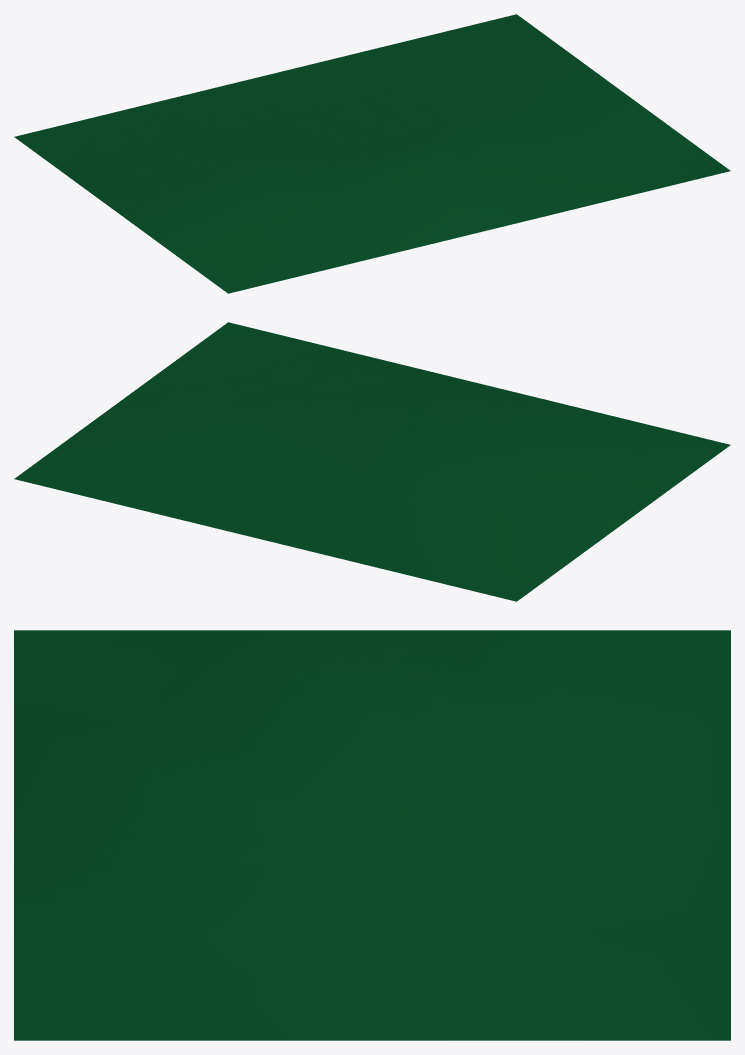
Rendered from Landscape2-tile.fbx.
3 renders of one model, top to bottom at view 1: azimuth 30°, elevation 25°; view 2: azimuth 150°, elevation 25°; view 3: azimuth 270°, elevation 25°, orthographic. The views are drawn at different scales.
Visible parts, largest first — view 1: Landscape_fracturepart29, Landscape_fracturepart60, Landscape_fracturepart15, Landscape_fracturepart19, Landscape_fracturepart53, Landscape_fracturepart56, Landscape_fracturepart46, Landscape_fracturepart52, Landscape_fracturepart16, Landscape_fracturepart33, Landscape_fracturepart42, Landscape_fracturepart5 (+41 smaller); view 2: Landscape_fracturepart29, Landscape_fracturepart15, Landscape_fracturepart53, Landscape_fracturepart60, Landscape_fracturepart19, Landscape_fracturepart46, Landscape_fracturepart33, Landscape_fracturepart16, Landscape_fracturepart5, Landscape_fracturepart56, Landscape_fracturepart42, Landscape_fracturepart39 (+38 smaller); view 3: Landscape_fracturepart29, Landscape_fracturepart15, Landscape_fracturepart60, Landscape_fracturepart19, Landscape_fracturepart53, Landscape_fracturepart46, Landscape_fracturepart56, Landscape_fracturepart33, Landscape_fracturepart16, Landscape_fracturepart37, Landscape_fracturepart5, Landscape_fracturepart52 (+43 smaller).
Boxes of the visible parts, <box> form: Landscape_fracturepart29: <box>297,14,538,86</box>; Landscape_fracturepart60: <box>504,135,720,196</box>; Landscape_fracturepart15: <box>242,68,383,149</box>; Landscape_fracturepart19: <box>538,95,730,173</box>; Landscape_fracturepart53: <box>14,114,160,195</box>; Landscape_fracturepart56: <box>460,164,626,225</box>; Landscape_fracturepart46: <box>488,30,626,95</box>; Landscape_fracturepart52: <box>264,227,364,278</box>; Landscape_fracturepart16: <box>354,76,497,110</box>; Landscape_fracturepart33: <box>159,86,264,139</box>; Landscape_fracturepart42: <box>183,247,287,293</box>; Landscape_fracturepart5: <box>109,101,176,172</box>; Landscape_fracturepart29: <box>14,454,244,532</box>; Landscape_fracturepart15: <box>234,464,399,545</box>; Landscape_fracturepart53: <box>422,525,596,601</box>; Landscape_fracturepart60: <box>238,324,356,404</box>; Landscape_fracturepart19: <box>125,322,244,414</box>; Landscape_fracturepart46: <box>36,398,173,462</box>; Landscape_fracturepart33: <box>308,491,439,566</box>; Landscape_fracturepart16: <box>162,442,280,501</box>; Landscape_fracturepart5: <box>372,517,521,578</box>; Landscape_fracturepart56: <box>332,347,453,393</box>; Landscape_fracturepart42: <box>634,430,730,477</box>; Landscape_fracturepart39: <box>256,424,333,478</box>; Landscape_fracturepart29: <box>532,860,730,1040</box>; Landscape_fracturepart15: <box>392,780,730,879</box>; Landscape_fracturepart60: <box>14,879,279,1032</box>; Landscape_fracturepart19: <box>14,949,397,1040</box>; Landscape_fracturepart53: <box>452,630,730,707</box>; Landscape_fracturepart46: <box>360,959,656,1040</box>; Landscape_fracturepart56: <box>14,821,193,955</box>; Landscape_fracturepart33: <box>484,729,730,800</box>; Landscape_fracturepart16: <box>457,874,617,963</box>; Landscape_fracturepart37: <box>430,753,730,815</box>; Landscape_fracturepart5: <box>469,683,730,748</box>; Landscape_fracturepart52: <box>14,675,138,741</box>.
Size of the model in its own units: 5580 by 327 by 4119.
